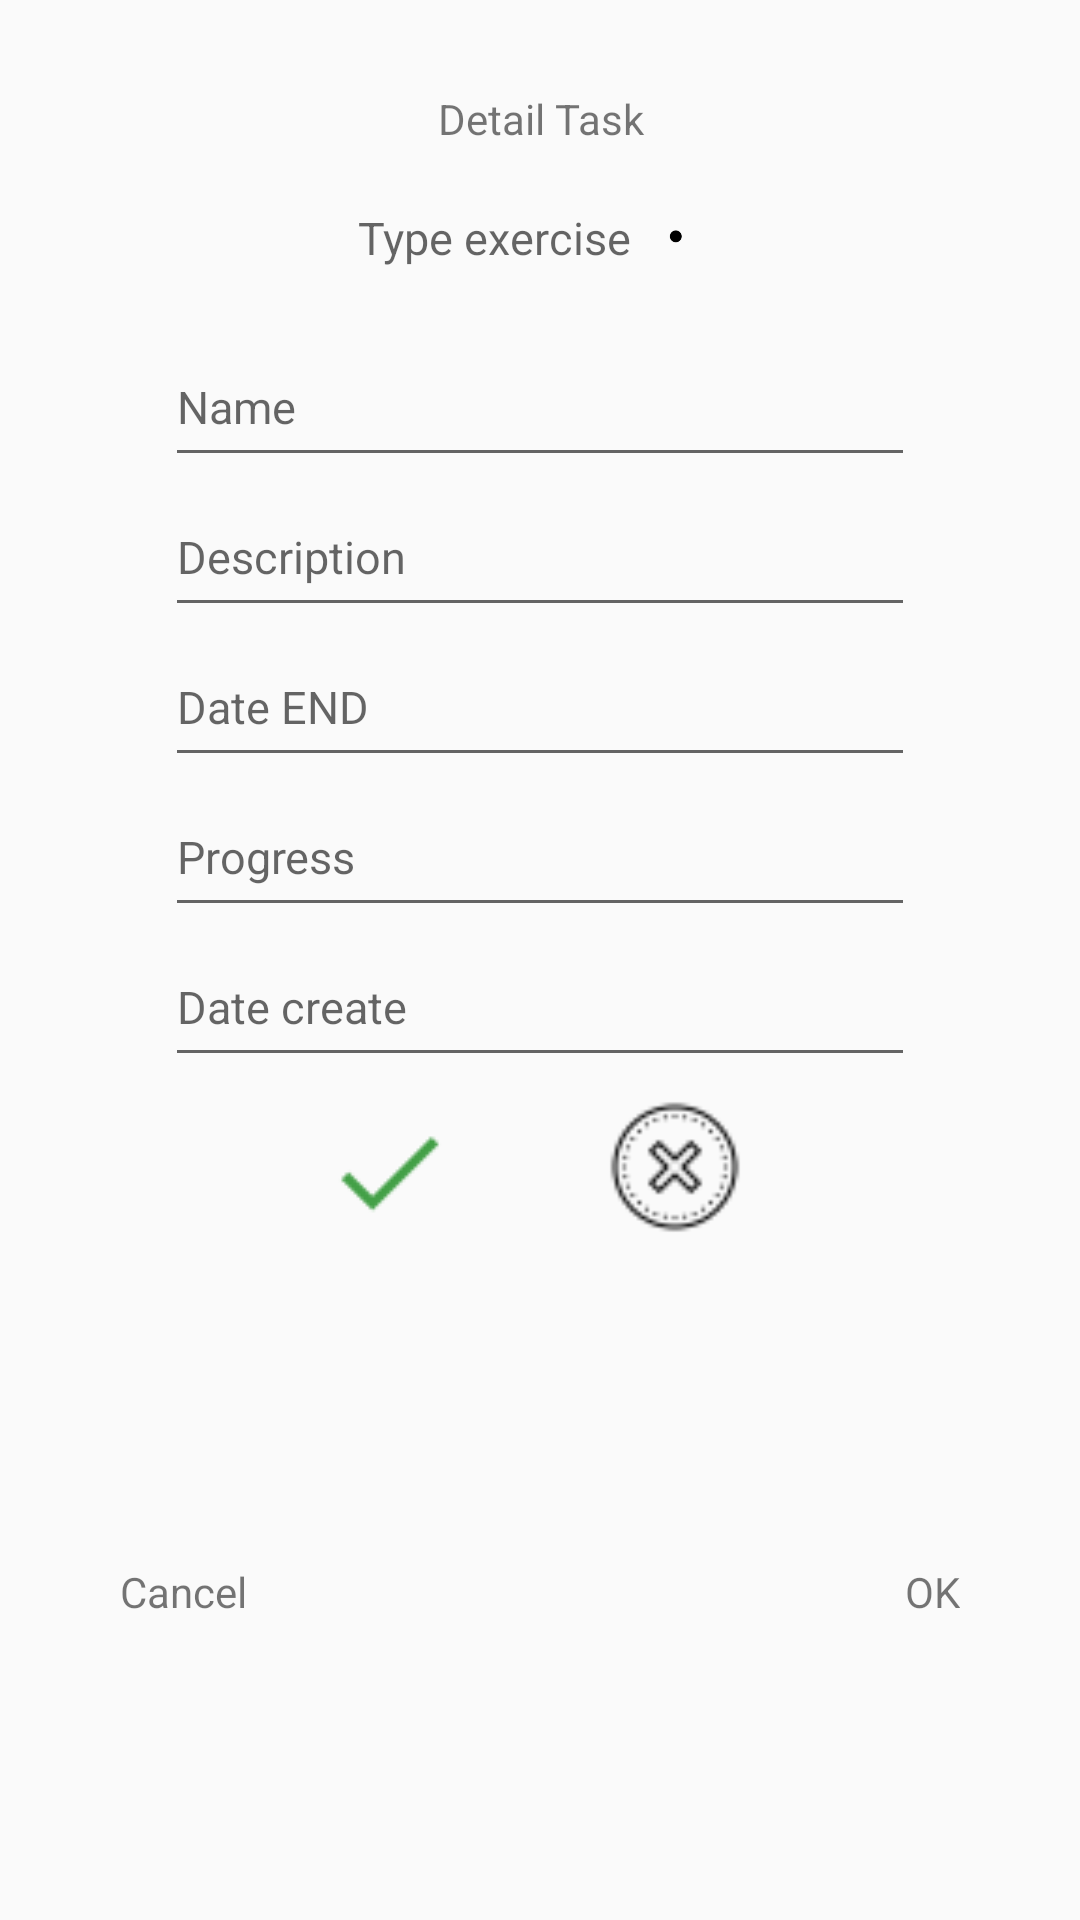

Named icons in this screenshot (1080w x 1920h) and their centers, point (x, y):
galochka: point (390, 1173)
krest: point (675, 1167)
